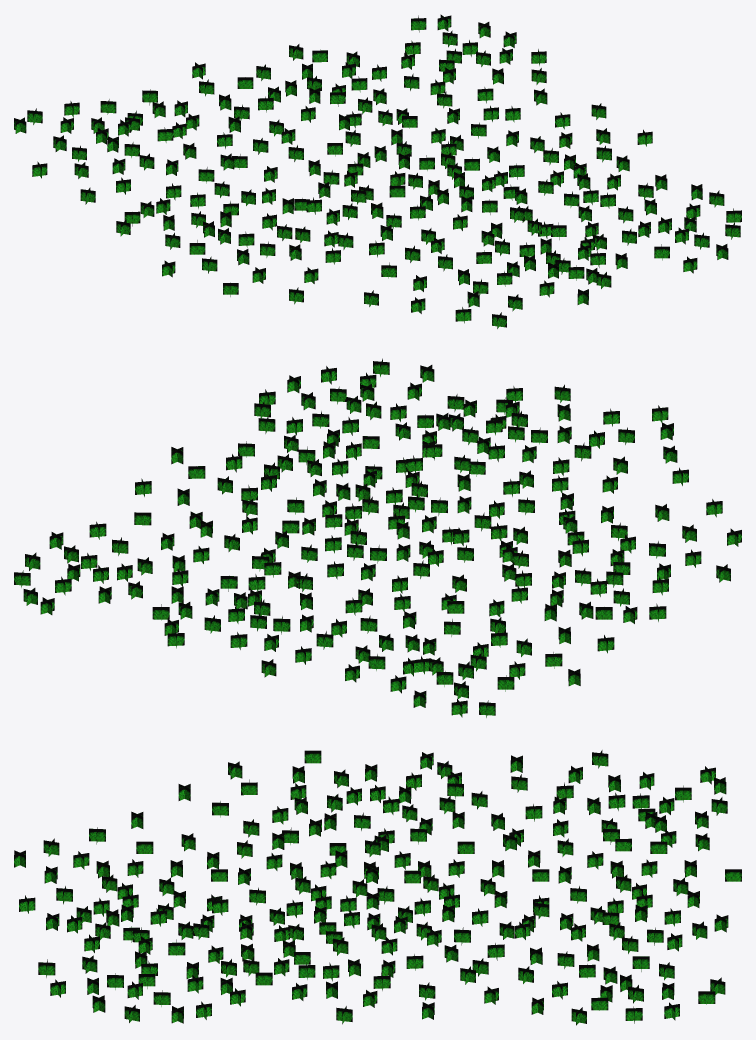
File: grass.fbx
The picture shows the model from 3 angles, top to bottom: view 1: azimuth 30°, elevation 25°; view 2: azimuth 150°, elevation 25°; view 3: azimuth 270°, elevation 25°; orthographic projection. The views are drawn at different scales.
Visible parts, largest first — view 1: Plane.008, Plane.002, Plane.003, Plane.006, Plane, Plane.001, Plane.004, Plane.007, Plane.005; view 2: Plane.006, Plane.004, Plane.008, Plane.007, Plane, Plane.003, Plane.002, Plane.001, Plane.005; view 3: Plane.007, Plane.003, Plane.002, Plane.004, Plane.001, Plane.008, Plane.006, Plane.005, Plane.
Part boxes in pixels (bbox=[...]): Plane.008: bbox=[14, 99, 234, 217]; Plane.002: bbox=[116, 189, 353, 304]; Plane.003: bbox=[450, 88, 667, 208]; Plane.006: bbox=[125, 44, 372, 154]; Plane: bbox=[277, 152, 524, 262]; Plane.001: bbox=[214, 109, 461, 219]; Plane.004: bbox=[364, 218, 611, 328]; Plane.007: bbox=[332, 14, 546, 128]; Plane.005: bbox=[481, 184, 741, 284]; Plane.006: bbox=[164, 573, 431, 682]; Plane.004: bbox=[422, 384, 688, 493]; Plane.008: bbox=[368, 599, 614, 717]; Plane.007: bbox=[14, 520, 300, 620]; Plane: bbox=[322, 455, 588, 562]; Plane.003: bbox=[134, 416, 382, 534]; Plane.002: bbox=[512, 499, 741, 623]; Plane.001: bbox=[261, 502, 527, 610]; Plane.005: bbox=[254, 358, 512, 476]; Plane.007: bbox=[472, 900, 725, 1025]; Plane.003: bbox=[220, 922, 498, 1024]; Plane.002: bbox=[178, 750, 463, 849]; Plane.004: bbox=[14, 811, 227, 942]; Plane.001: bbox=[335, 812, 549, 945]; Plane.008: bbox=[447, 750, 727, 851]; Plane.006: bbox=[528, 812, 741, 945]; Plane.005: bbox=[38, 894, 259, 1023]; Plane: bbox=[207, 813, 420, 943].
Bounding box in the file's own units: 1766 × 52.66 × 2040.
Materials: 9 (9 with a texture image).
